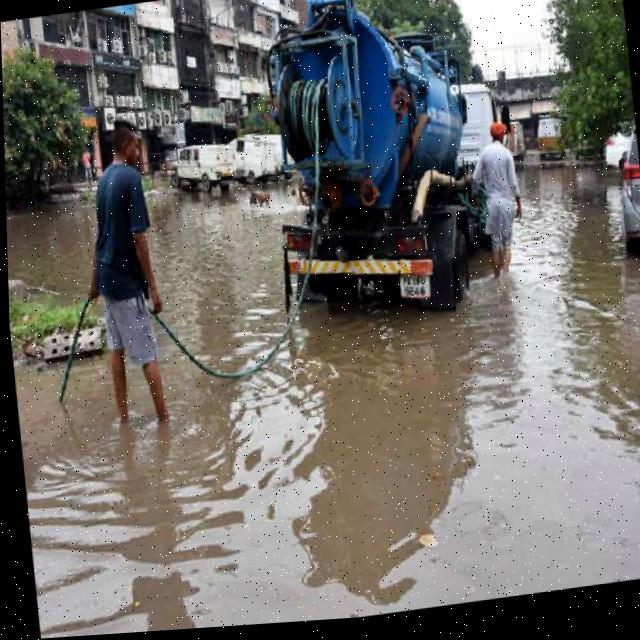civilian: (68, 100, 197, 460), (463, 98, 541, 292), (79, 143, 95, 197)
